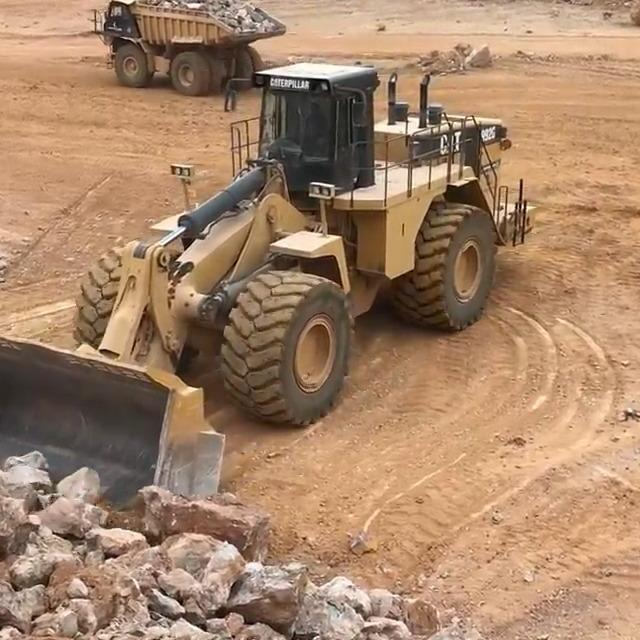Person: (302, 100, 330, 151)
dump truck: (94, 0, 290, 100)
wheel loader: (0, 49, 537, 508)
